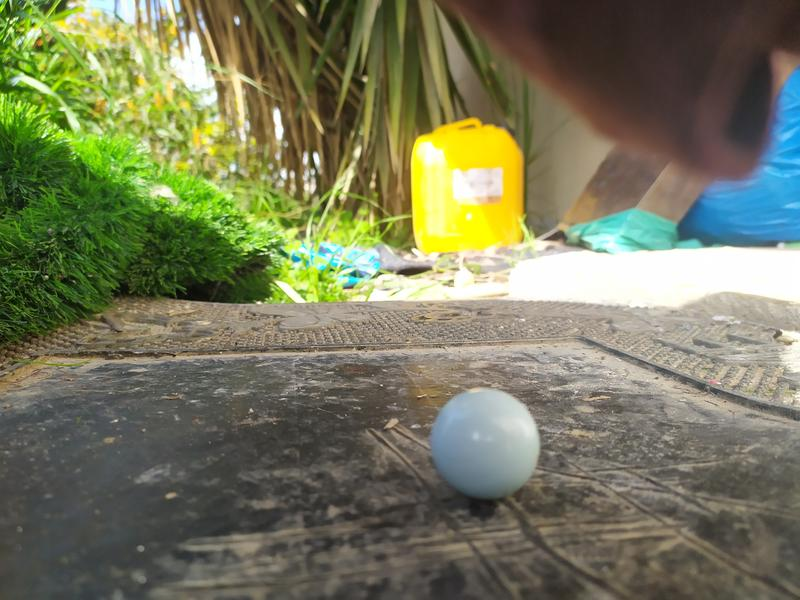Warning: (425, 383, 544, 504)
